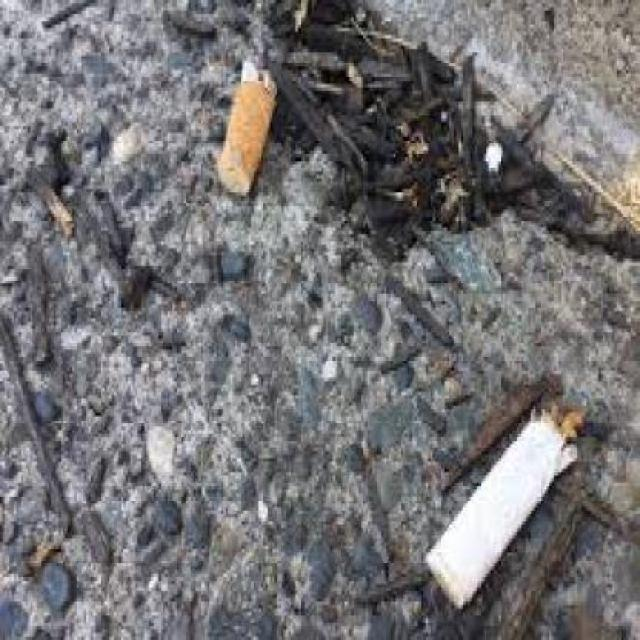cigarette: (410, 423, 584, 626), (233, 31, 272, 217)
